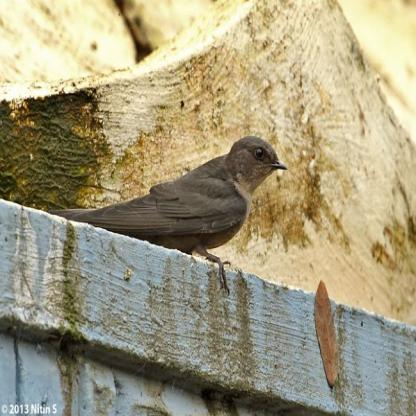Burung: (49, 135, 286, 293)
